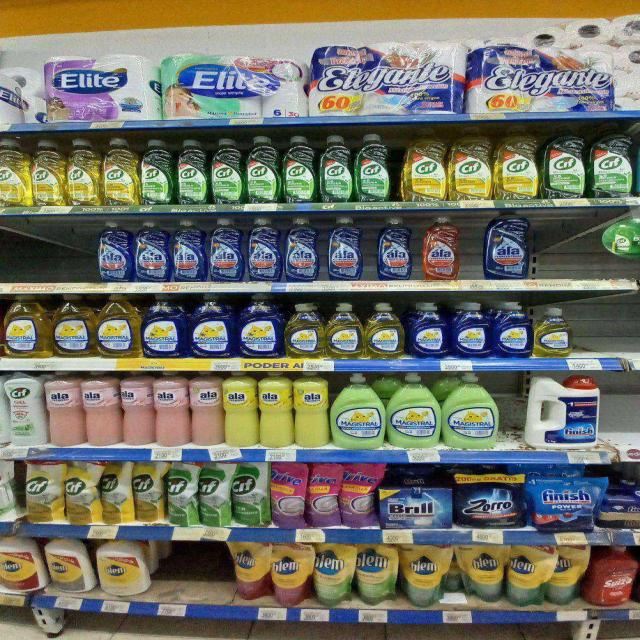ala_conc_azul: (482, 210, 533, 280), (323, 215, 367, 281), (372, 215, 413, 280), (282, 216, 322, 280), (207, 217, 245, 282), (246, 216, 282, 282), (170, 218, 206, 282), (95, 220, 132, 282), (134, 219, 169, 282)
ala_conc_rojo: (419, 214, 463, 281)
ala_crem_amarillo: (294, 371, 329, 448), (224, 370, 258, 448), (259, 370, 292, 448)
ala_crem_rosado: (83, 370, 120, 447), (46, 371, 82, 447), (155, 369, 189, 447), (10, 371, 44, 447), (190, 370, 223, 446), (121, 369, 153, 446)
cif_conc_bot_amarilla: (400, 128, 448, 202), (495, 125, 539, 200), (448, 126, 492, 201), (102, 136, 139, 206), (66, 137, 100, 205), (31, 138, 65, 206), (0, 137, 30, 207)
cif_conc_botella_verde: (542, 125, 587, 199), (589, 126, 635, 198), (354, 133, 394, 202), (244, 135, 280, 204), (282, 134, 316, 203), (318, 134, 352, 203), (209, 137, 243, 205), (140, 138, 174, 205), (176, 138, 208, 205)
cif_conc_sachet_amarillo: (23, 460, 63, 523), (64, 460, 101, 525), (133, 461, 164, 524), (102, 461, 132, 524)
cif_conc_sachet_verde: (232, 461, 270, 527), (165, 461, 198, 526), (199, 462, 231, 526)
drive: (270, 462, 307, 529), (341, 463, 379, 528), (308, 463, 340, 528)
magistral_con_amarillo: (3, 294, 50, 358), (96, 293, 140, 358), (52, 293, 94, 358), (365, 302, 405, 359), (285, 302, 324, 358), (326, 302, 363, 358), (533, 306, 571, 358)
magistral_con_azul: (189, 293, 235, 358), (237, 293, 283, 358), (142, 293, 187, 358), (407, 302, 449, 358), (492, 301, 531, 358), (451, 301, 490, 358)
magistral_con_crema: (443, 372, 500, 450), (332, 372, 384, 450), (387, 373, 440, 448)
